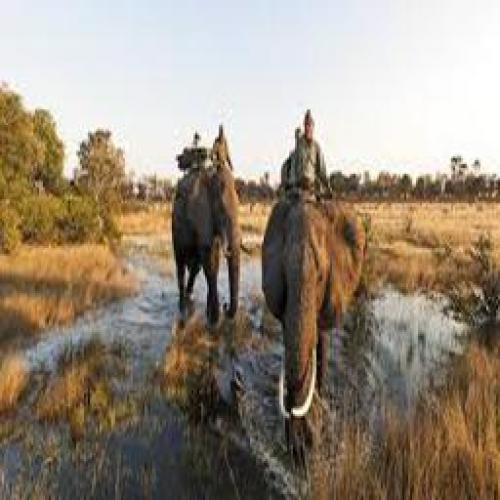african_elephant-endangered: (256, 191, 368, 500), (172, 167, 258, 323)
